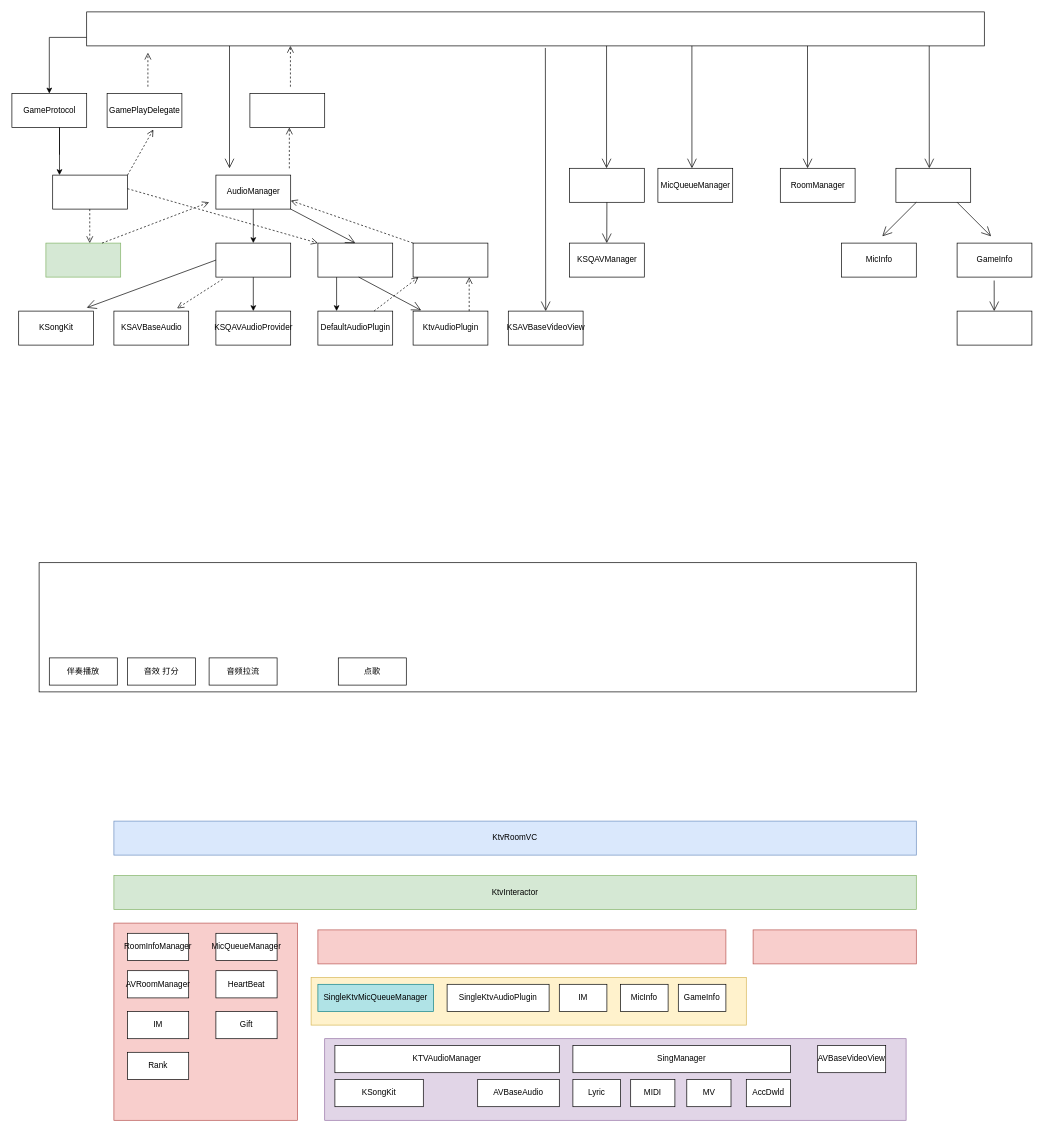
Image size: 1044x1132. Some labels were removed from this diagram. The shapes that lost their labels are listed below. From the top down, each one's box as (x1, y1, x2, y2) in pixels, then its label:
(86, 11, 984, 46): RoomVC
(249, 93, 325, 128): VolumeChangeDelegate
(52, 174, 128, 209): GameKTVManager
(569, 168, 644, 202): KSAVRoomManager
(895, 168, 971, 202): CoreBiz
(45, 242, 121, 277): AccProvider (新)
(215, 242, 291, 277): BaseAudioManager
(317, 242, 393, 277): AudioPluginProtocol
(412, 242, 488, 277): datasource, delegate
(956, 310, 1032, 345): KTVGameInfo
(317, 929, 726, 964): SingleKtvInteractor
(752, 929, 916, 964): MultiKtvInteractor
